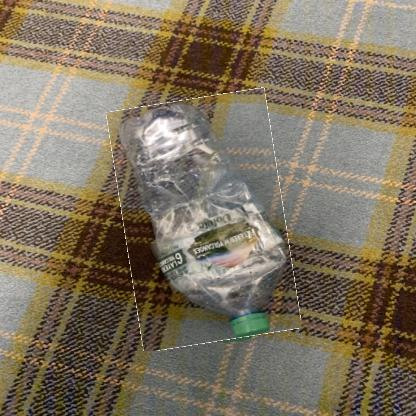plastic-bottles: (116, 93, 294, 348)
